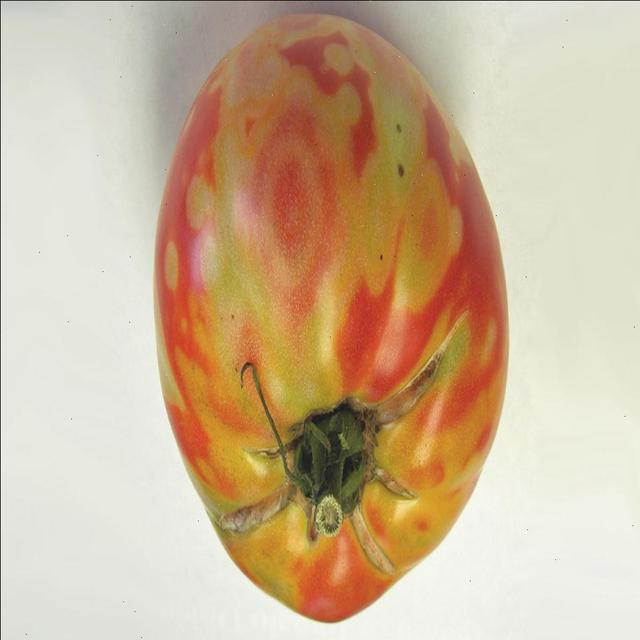Spotted wilt Virus Fruit: (149, 32, 415, 62)
